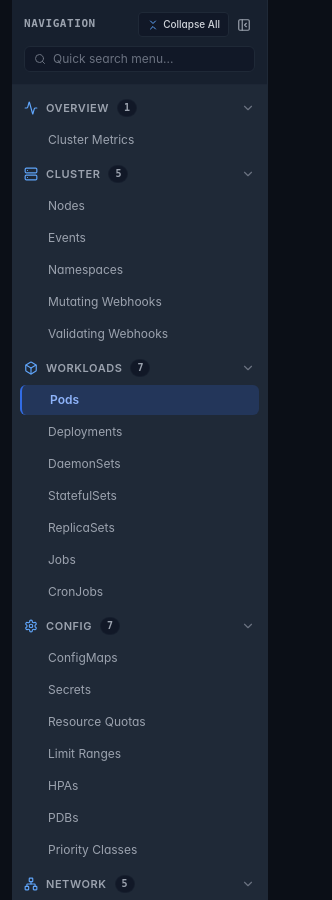
Sidebar Component › filters sidebar items dynamically using search input
Type "secret" into the field with placeholder "Quick search menu..." at (140, 59), box [24,46,255,72]
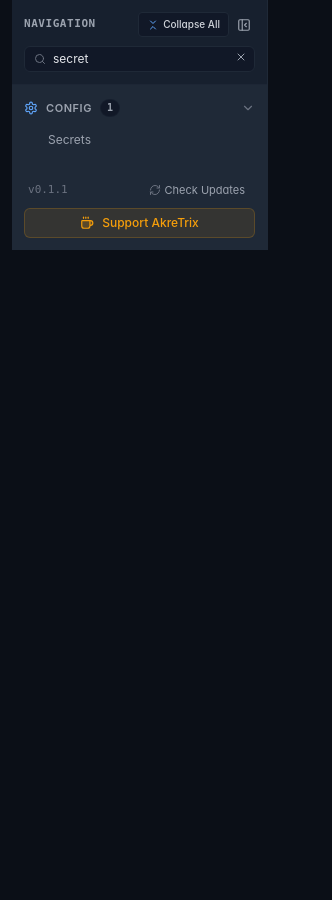
Expected: the text "Secrets" is shown, [48,132,91,147]
Result: the button "Deployments" is gone
